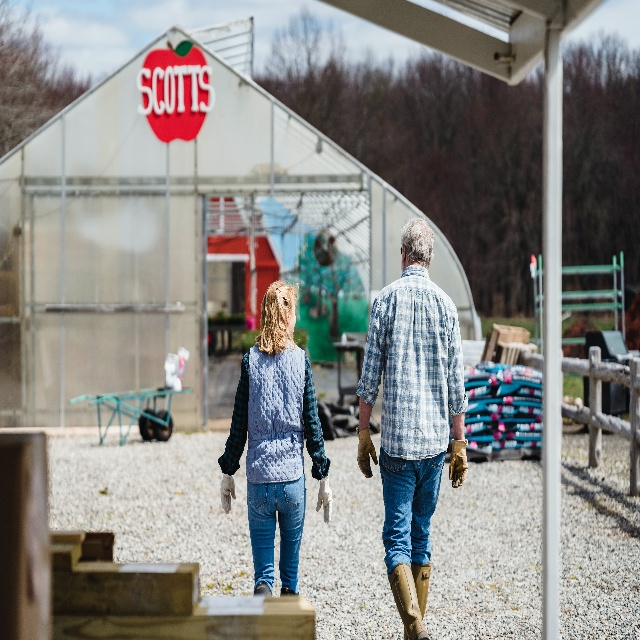Guantes: (356, 425, 378, 479), (449, 438, 468, 488), (315, 477, 333, 524), (220, 474, 236, 515)
